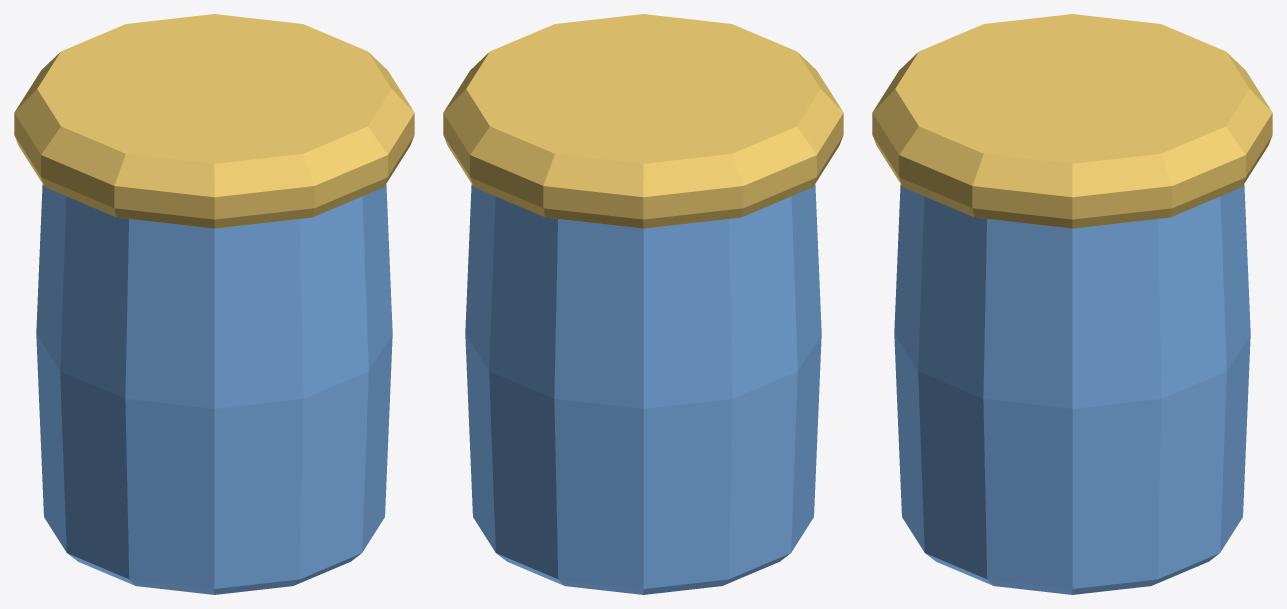
The model's file is Pot_22.fbx.
3 views of the same model, side by side, from view 1: azimuth 30°, elevation 25°; view 2: azimuth 150°, elevation 25°; view 3: azimuth 270°, elevation 25° (orthographic).
Visible parts, largest first — view 1: Pot_22; view 2: Pot_22; view 3: Pot_22.
Boxes of the visible parts, bbox=[...] form: Pot_22: bbox=[14, 14, 414, 594]; Pot_22: bbox=[443, 14, 843, 594]; Pot_22: bbox=[872, 14, 1272, 594].
Bounding box in the file's own units: 0.1696 × 0.2055 × 0.1696.
